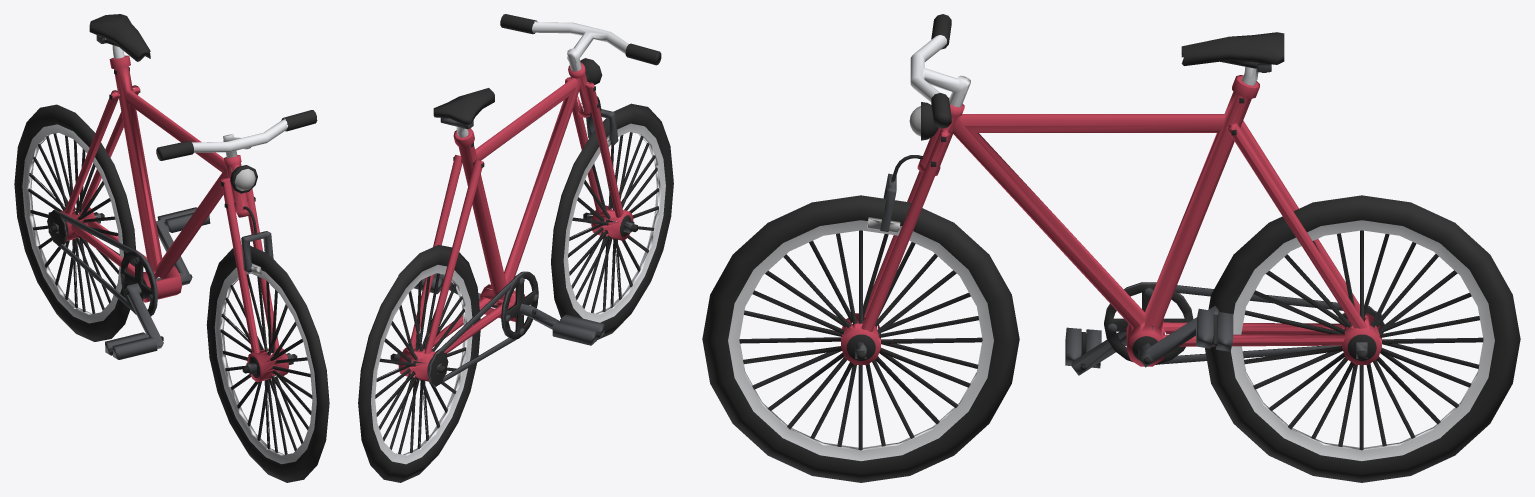
Rendered from Bike.glb.
3 renders of one model, left to right at view 1: azimuth 30°, elevation 25°; view 2: azimuth 150°, elevation 25°; view 3: azimuth 270°, elevation 25°, orthographic. The views are drawn at different scales.
Visible parts, largest first — view 1: Wheel_a, Frame, Wheel_b, Helm, Saddle, Pedal_c, b, c, Pedal_a, Pedal_b, a; view 2: Frame, Wheel_b, Wheel_a, Helm, Saddle, b, Pedal_a, c, Pedal_c, a; view 3: Wheel_a, Wheel_b, Frame, Saddle, Helm, Pedal_c, b, c, Pedal_b, Pedal_a.
Part boxes in pixels (x1,y1,x2,y2): Wheel_a: (206,246,329,482); Frame: (50,55,297,374); Wheel_b: (14,104,136,341); Helm: (156,110,317,171); Saddle: (89,14,150,61); Pedal_c: (108,219,192,353); b: (120,251,157,316); c: (54,209,136,312); Pedal_a: (105,332,157,359); Pedal_b: (157,207,210,232); a: (47,209,67,245); Frame: (390,58,637,374); Wheel_b: (358,245,480,482); Wheel_a: (551,103,673,339); Helm: (500,14,661,71); Saddle: (433,88,494,137); b: (501,271,538,339); Pedal_a: (552,314,604,345); c: (433,276,517,386); Pedal_c: (442,279,601,337); a: (427,350,448,386); Wheel_a: (702,195,1019,482); Wheel_b: (1205,195,1520,482); Frame: (855,75,1367,366); Saddle: (1181,32,1284,85); Helm: (910,14,970,128); Pedal_c: (1071,306,1219,375); b: (1104,282,1193,364); c: (1158,285,1368,364); Pedal_b: (1196,308,1233,351); Pedal_a: (1065,327,1101,368).
Size of the model in its own units: 462 by 982 by 1634.
1 material, 1 textured.
